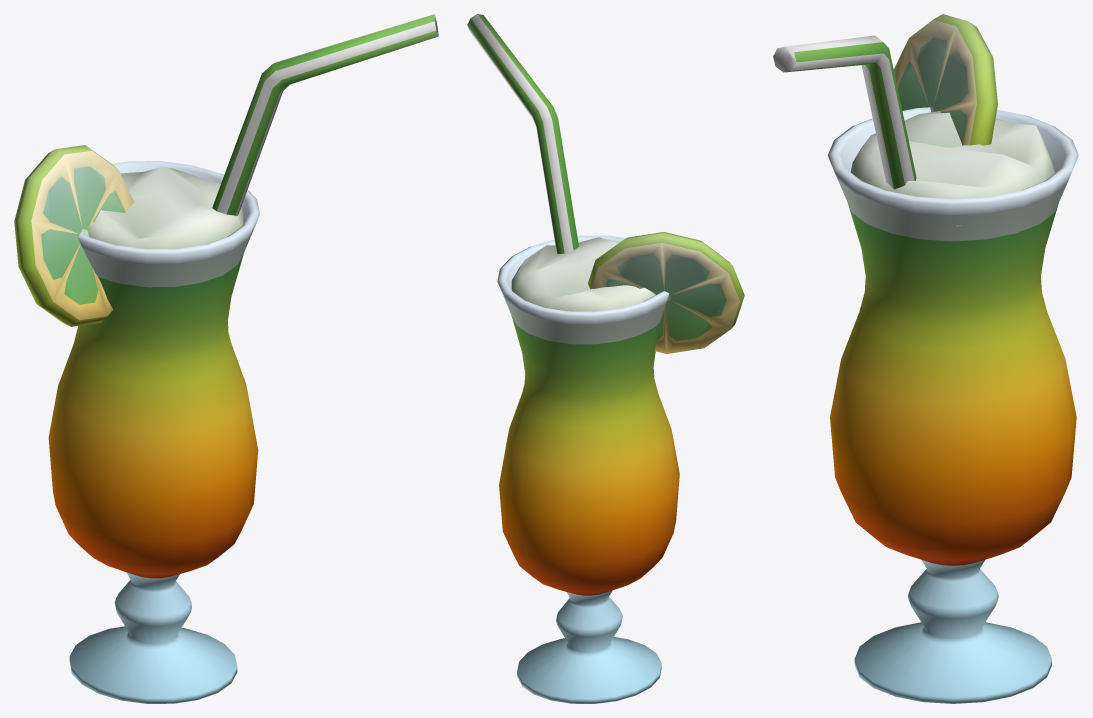
The model's file is cocktail_003.fbx.
3 views of the same model, side by side, from view 1: azimuth 30°, elevation 25°; view 2: azimuth 150°, elevation 25°; view 3: azimuth 270°, elevation 25° (orthographic). The views are drawn at different scales.
Parts seen in each view (by area): view 1: cocktail_003; view 2: cocktail_003; view 3: cocktail_003.
Boxes of the visible parts, left/top/right/bottom form: cocktail_003: left=14, top=14, right=438, bottom=703; cocktail_003: left=467, top=14, right=744, bottom=703; cocktail_003: left=773, top=14, right=1078, bottom=703.
Size of the model in its own units: 15.21 by 9.89 by 26.05.
